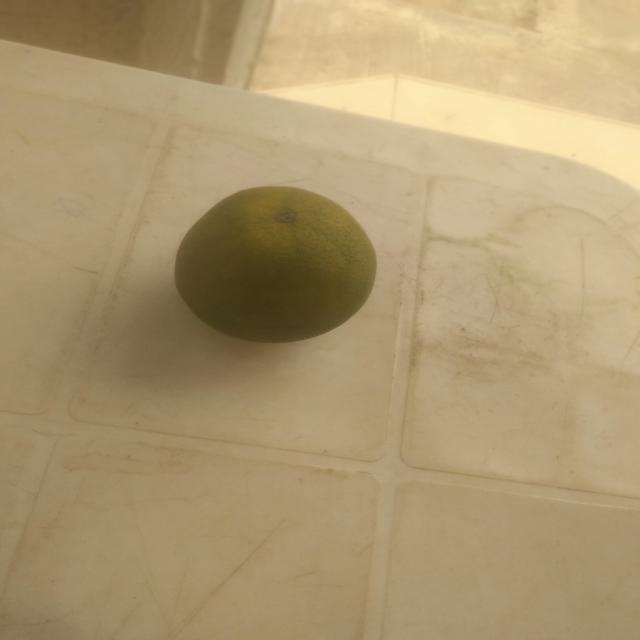agrume: (157, 168, 389, 364)
